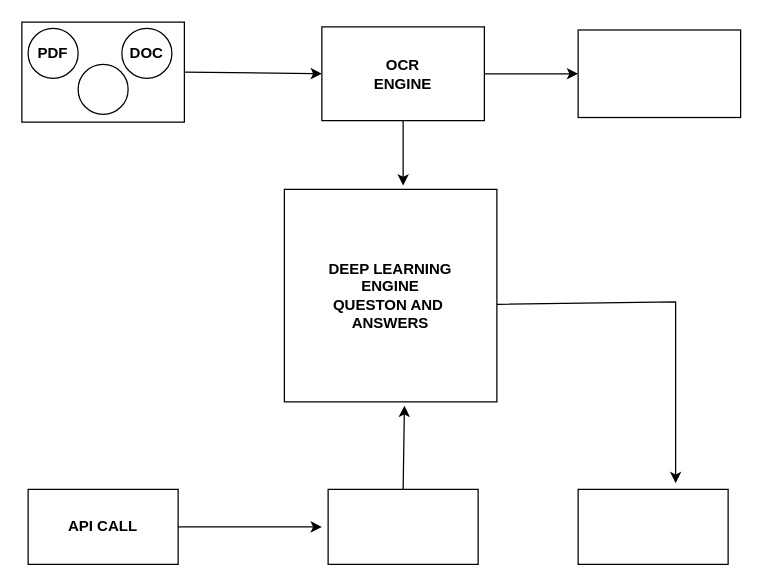
This 763x586 diagram has some shape labels left out. Here are the shapes that lost their labels. From the top down, the box of each, then its label:
(577, 29, 741, 118): FORMAT ISSUE
(327, 488, 478, 564): ASK QUESTION
(577, 488, 728, 564): ANSWERS
